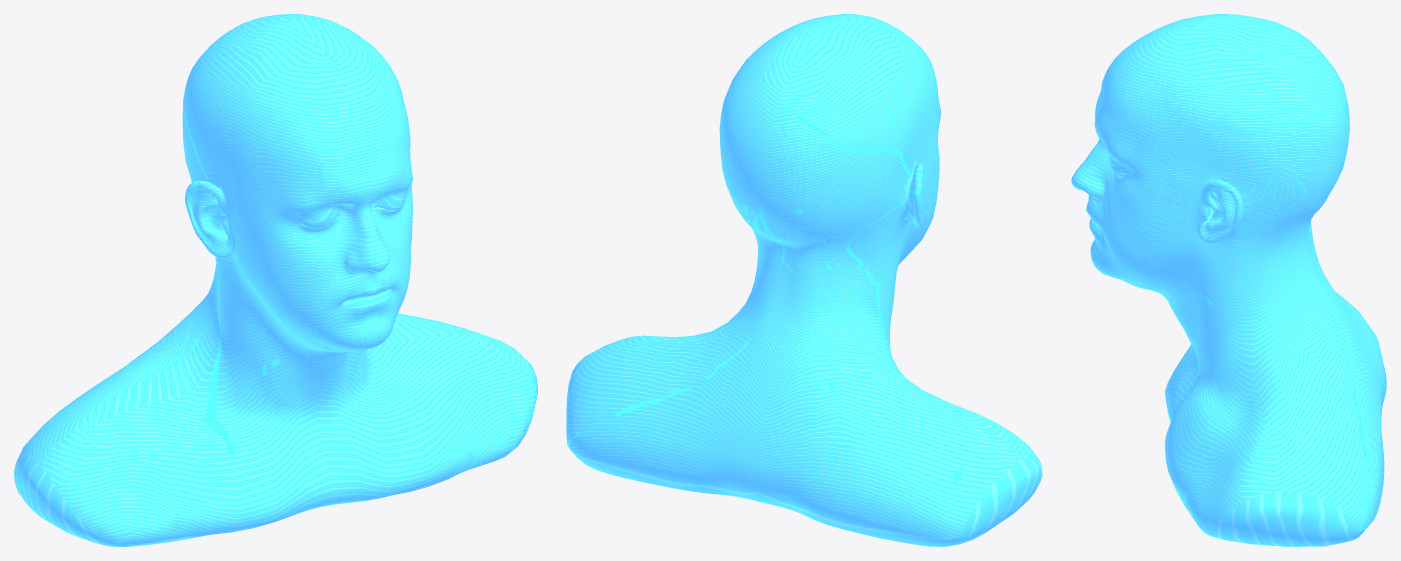
Rendered from holo_1767776877521.glb.
3 renders of one model, left to right at view 1: azimuth 30°, elevation 25°; view 2: azimuth 150°, elevation 25°; view 3: azimuth 270°, elevation 25°, orthographic. The views are drawn at different scales.
Parts seen in each view (by area): view 1: LeePerrySmith; view 2: LeePerrySmith; view 3: LeePerrySmith.
Part boxes in pixels (x1,y1,x2,y2): LeePerrySmith: (14, 14, 537, 546); LeePerrySmith: (566, 14, 1042, 546); LeePerrySmith: (1071, 14, 1386, 546).
Bounding box in the file's own units: 8.55 × 7.95 × 5.18.
Materials: 1 (1 with a texture image).
